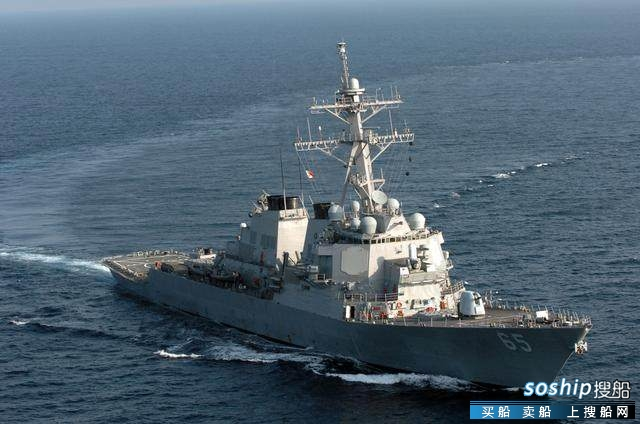warship: (87, 38, 594, 389)
